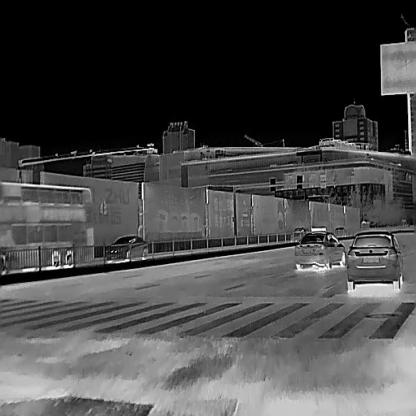bus: (0, 180, 95, 274)
car: (344, 229, 404, 292), (293, 225, 347, 269), (105, 233, 149, 262), (289, 225, 307, 242), (333, 224, 346, 236)
